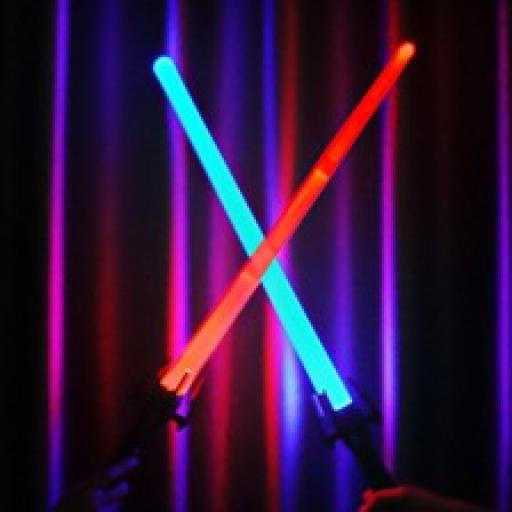lightsaber: (90, 42, 423, 484), (148, 52, 394, 484)
